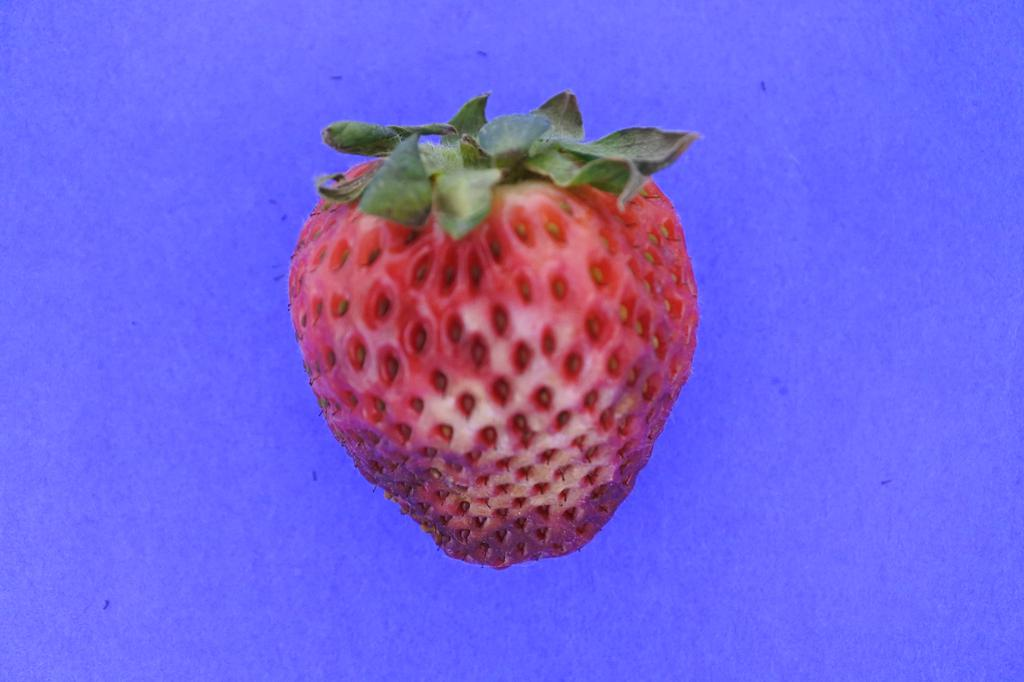red strawberry: (286, 88, 703, 568)
